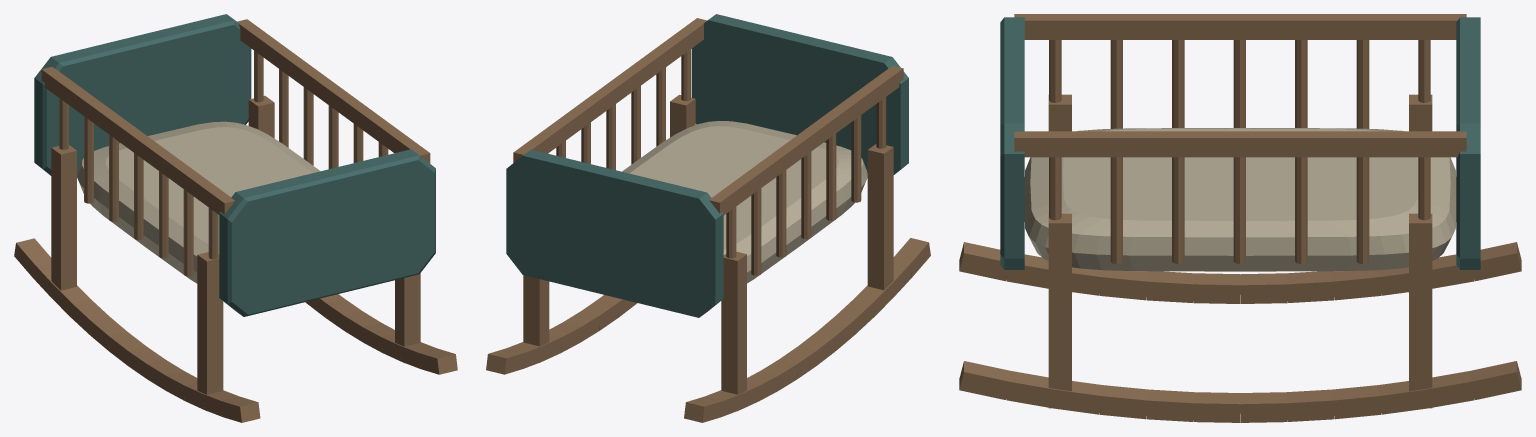
File: H-01_cradle.glb
3 renders of one model, left to right at view 1: azimuth 30°, elevation 25°; view 2: azimuth 150°, elevation 25°; view 3: azimuth 270°, elevation 25°, orthographic. The views are drawn at different scales.
Parts seen in each view (by area): view 1: H-01_cradle; view 2: H-01_cradle; view 3: H-01_cradle.
Part boxes in pixels (bbox=[...]): H-01_cradle: bbox=[14, 14, 457, 422]; H-01_cradle: bbox=[486, 14, 930, 422]; H-01_cradle: bbox=[959, 14, 1521, 422].
Bounding box in the file's own units: 0.49 × 0.5055 × 0.8956.
